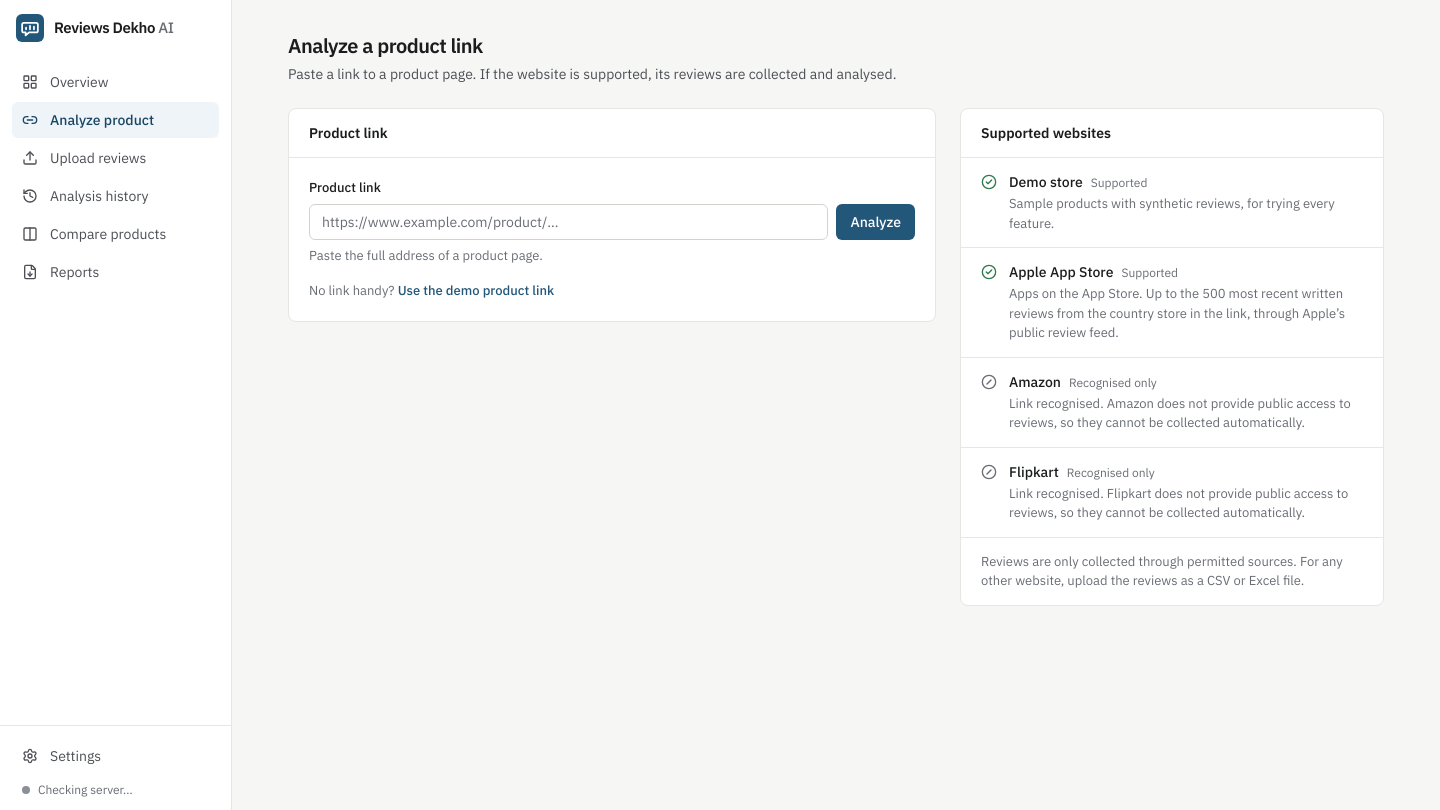
it: product link form › explains that Amazon reviews cannot be collected and offers alternatives
Type "https://www.amazon.in/dp/B0ABCDEFGH" into the field labelled "Product link". click: {"x": 569, "y": 222}
box: [309,204,828,240]
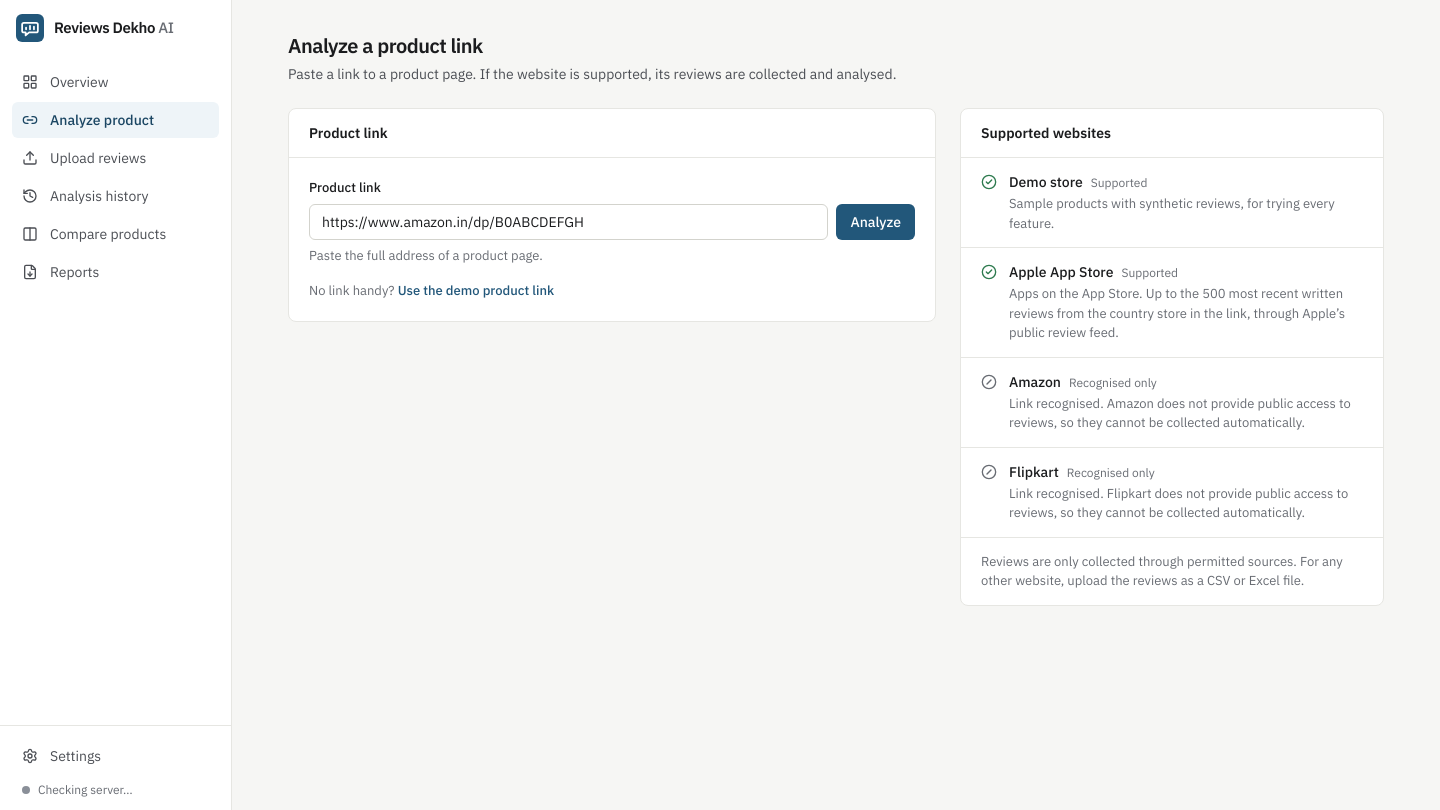
Click the button "Analyze". click: {"x": 876, "y": 222}
box: [836,204,915,240]
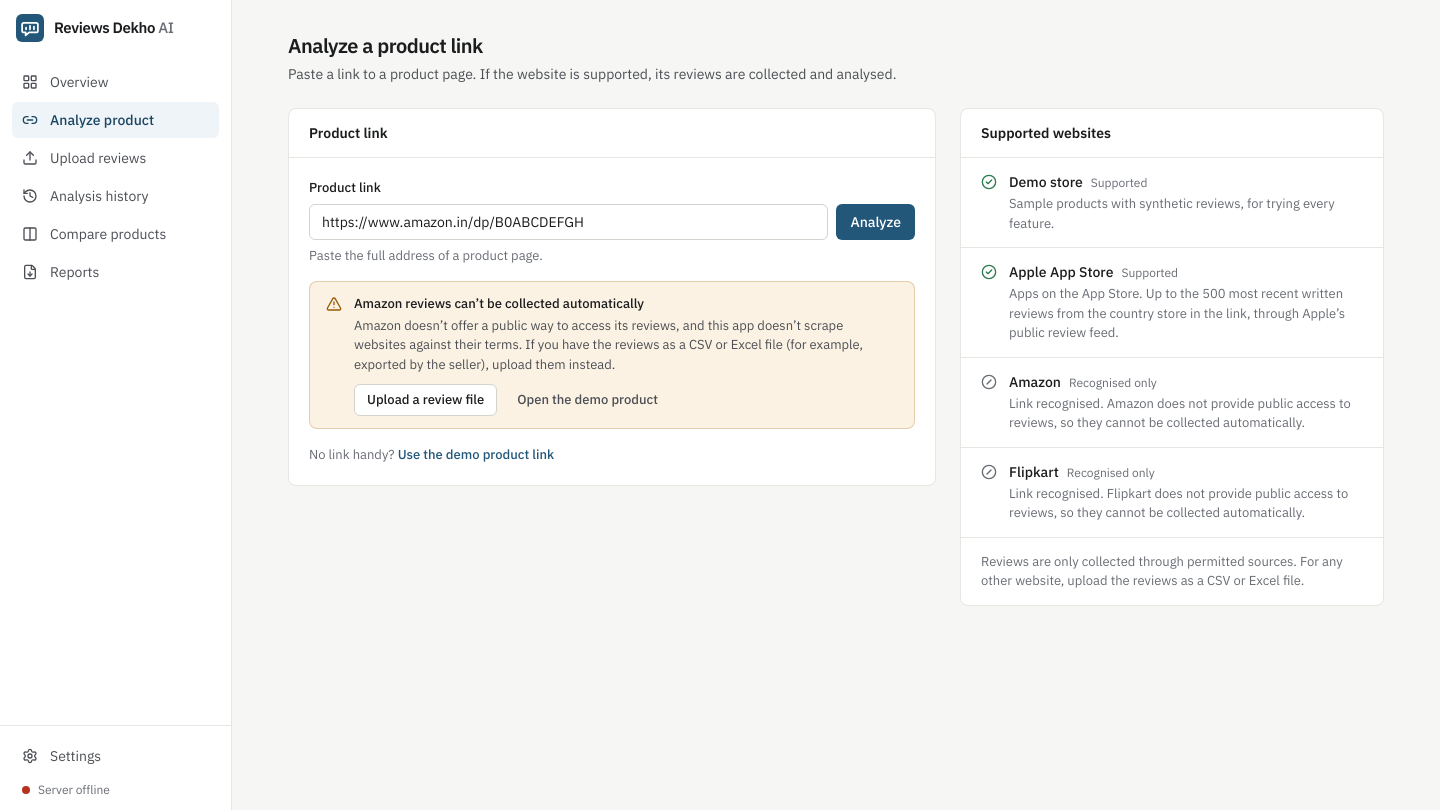
Check: the text "Amazon reviews can’t be collected automatically" is shown, box [354,295,644,312]
